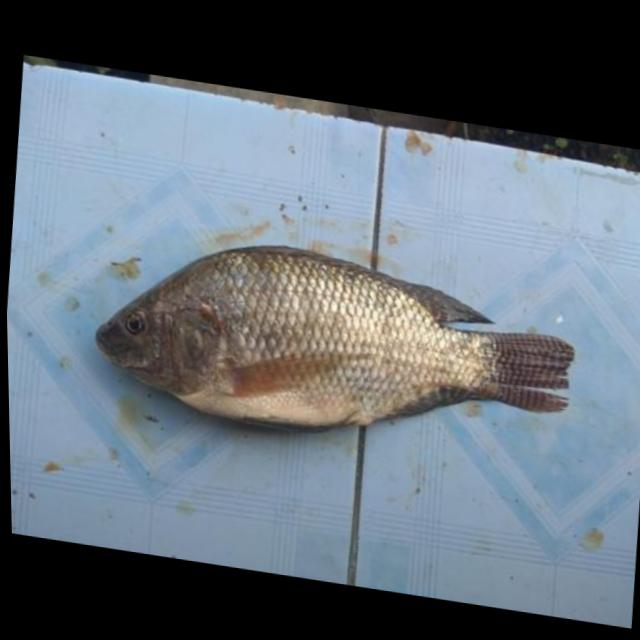Tilapia: (85, 219, 588, 483)
